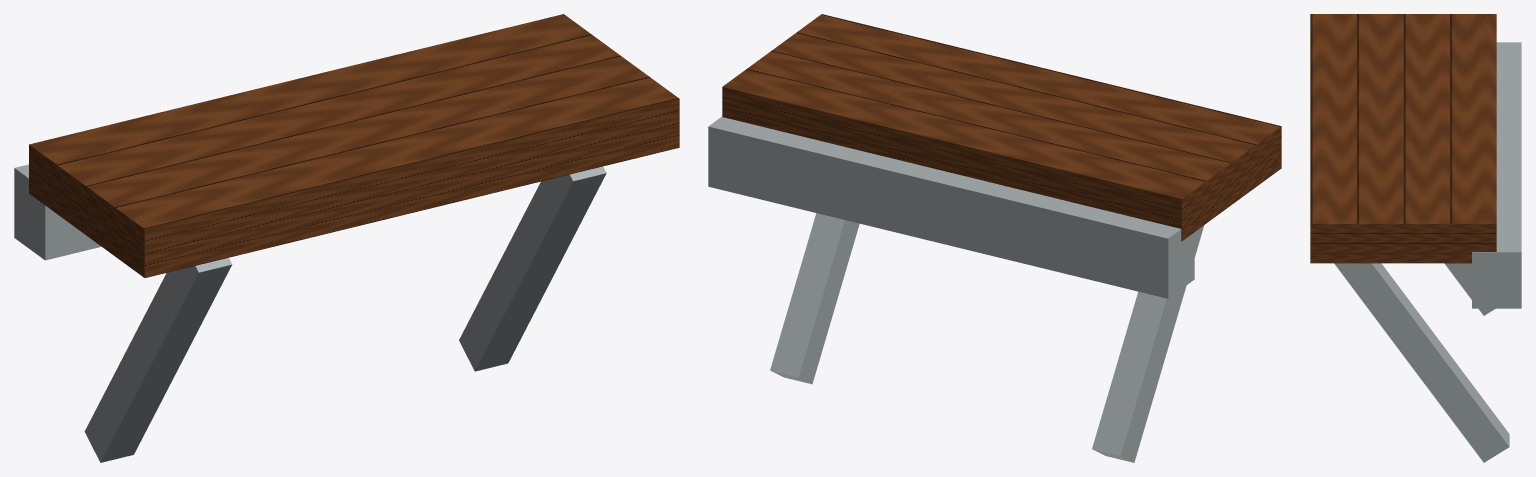
File: bunker-shelter-construction-wall-tool-foldout-2d9df556__23386.glb
The picture shows the model from 3 angles, left to right: view 1: azimuth 30°, elevation 25°; view 2: azimuth 150°, elevation 25°; view 3: azimuth 270°, elevation 25°; orthographic projection. The views are drawn at different scales.
Visible parts, largest first — view 1: wall-tool-foldout; view 2: wall-tool-foldout; view 3: wall-tool-foldout.
Boxes of the visible parts, x1,y1,x2,y2 form: wall-tool-foldout: (14,14,679,462); wall-tool-foldout: (708,14,1281,462); wall-tool-foldout: (1310,14,1521,462).
Bounding box in the file's own units: 0.8012 × 0.4691 × 0.34.
2 materials, 1 textured.
